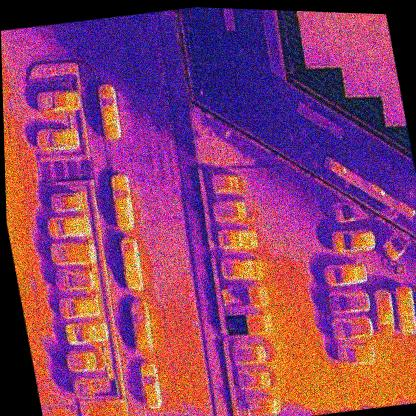Hotspot: (325, 33, 344, 66), (353, 63, 371, 95), (297, 11, 316, 39), (366, 14, 385, 34)
Normal: (348, 32, 367, 66), (341, 64, 360, 97), (337, 33, 356, 66), (365, 61, 382, 96), (377, 61, 395, 94), (360, 32, 378, 64), (314, 34, 332, 66), (382, 92, 399, 124), (372, 32, 389, 64), (302, 36, 319, 67), (309, 11, 328, 38), (320, 12, 339, 38), (332, 12, 350, 37), (343, 13, 360, 35), (355, 13, 372, 34)
